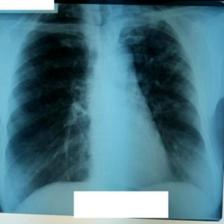tuberculosis: (1, 0, 223, 221)
